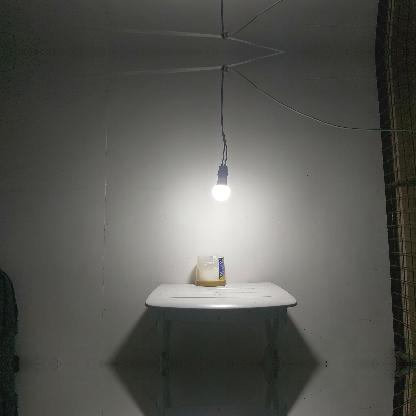Lady-s-Choice: (195, 253, 227, 287)
